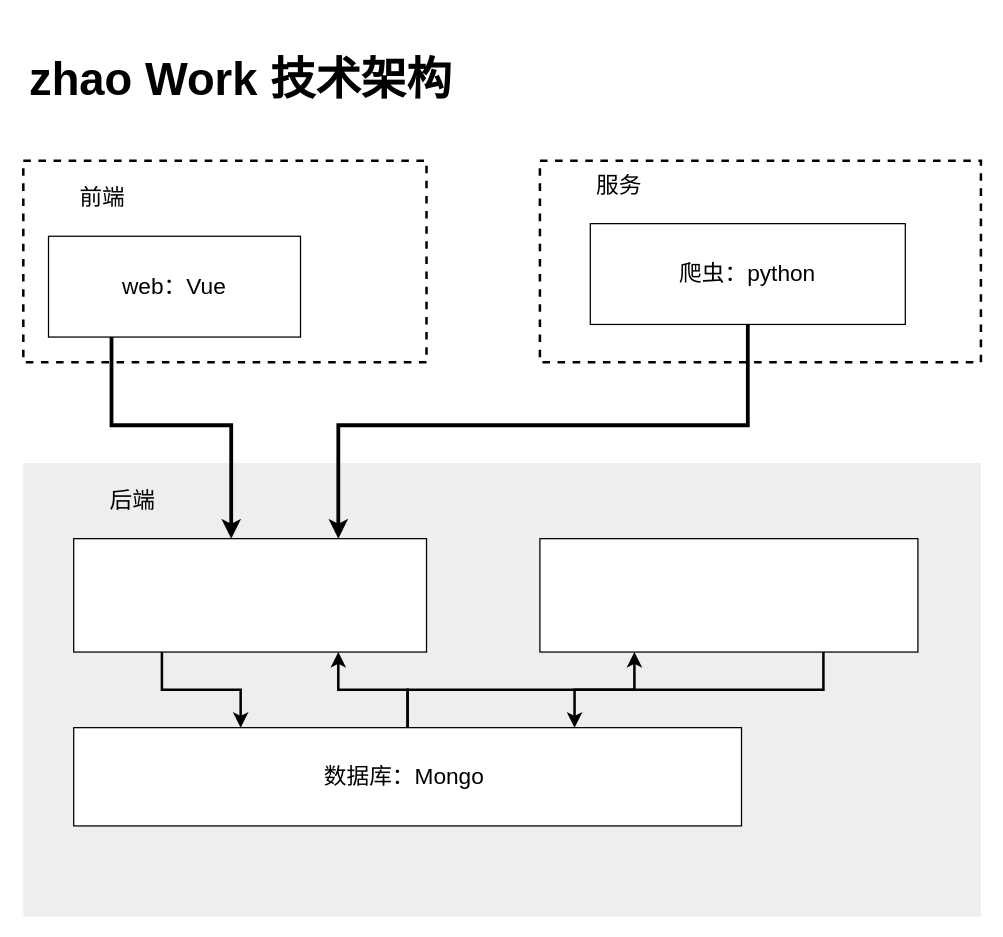
Some shapes in this 1003 by 937 pixel diagram are drawn without their labels. Here are the shapes that lost their labels. From the top down, the centre of each, then its label:
point (249, 594): API Server：EmgApi
point (728, 594): 后台Web管理：Mongo客户端
